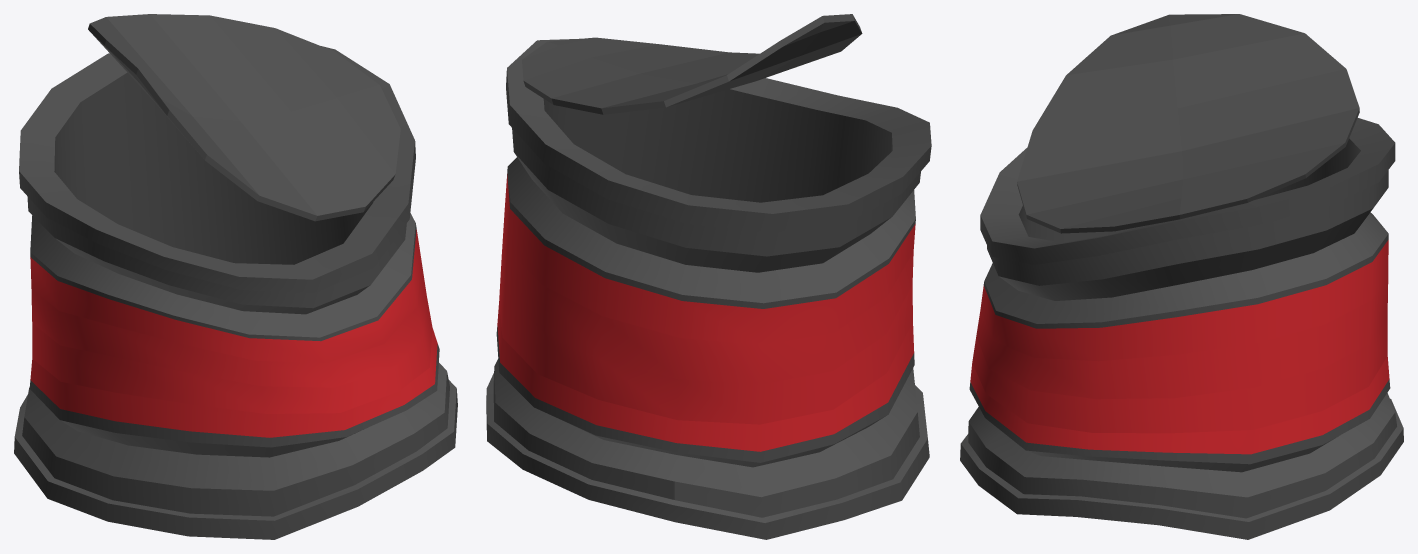
File: FoodCan.fbx
3 renders of one model, left to right at view 1: azimuth 30°, elevation 25°; view 2: azimuth 150°, elevation 25°; view 3: azimuth 270°, elevation 25°, orthographic. The views are drawn at different scales.
Visible parts, largest first — view 1: Cylinder; view 2: Cylinder; view 3: Cylinder.
Boxes of the visible parts, <box> form: Cylinder: <box>14,14,457,539</box>; Cylinder: <box>486,14,931,539</box>; Cylinder: <box>960,14,1403,539</box>.
Bounding box in the file's own units: 6.91 × 7.5 × 7.2.
